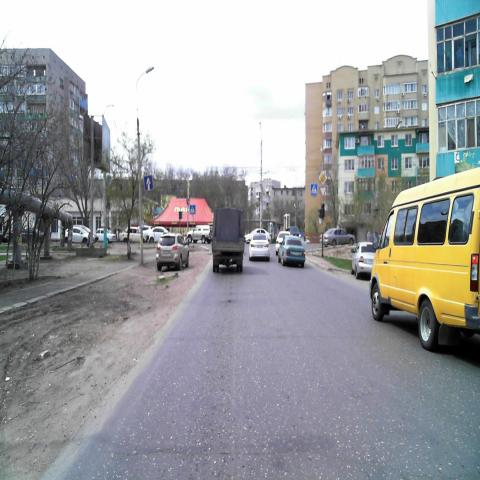5_6: (144, 175, 153, 190)
